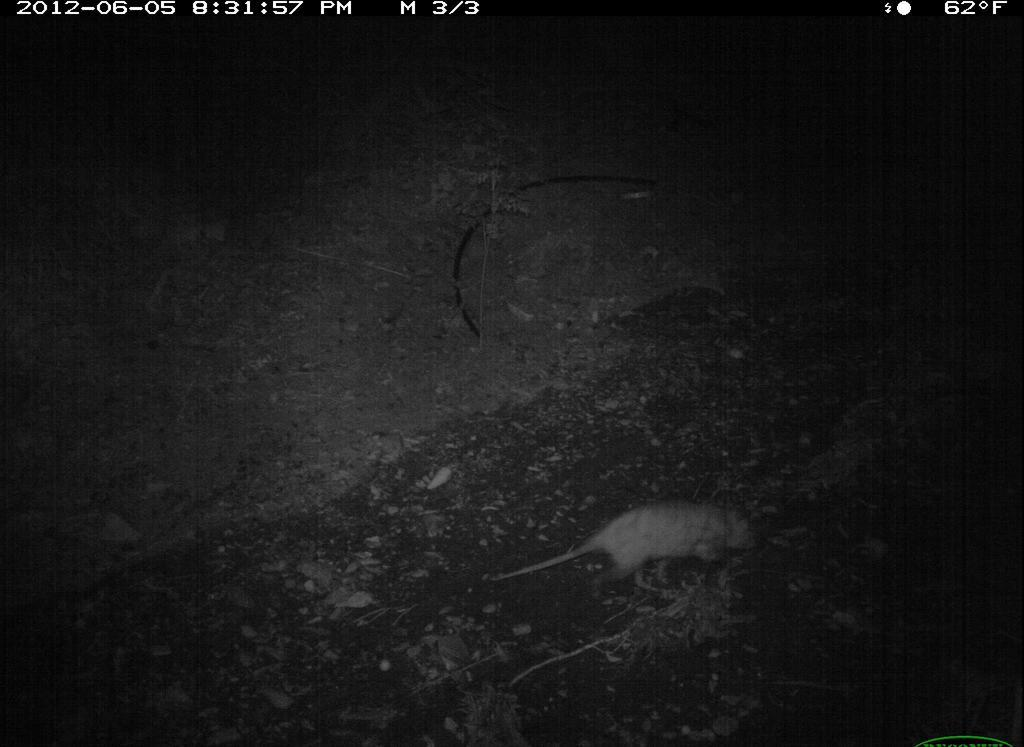opossum: (502, 492, 763, 611)
